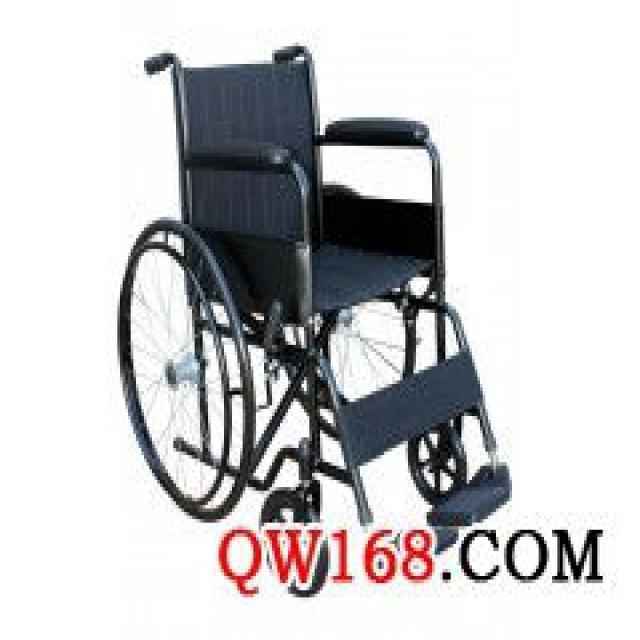wheelchairs: (116, 43, 513, 597)
